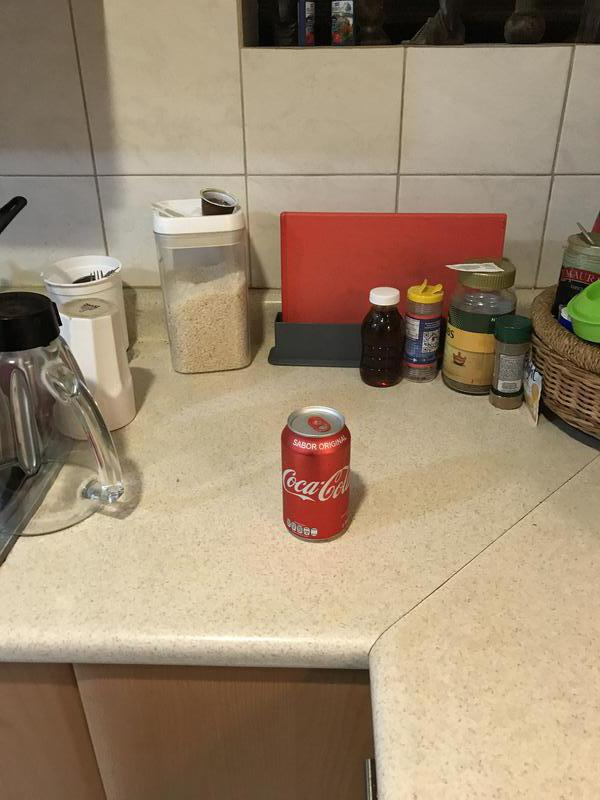coca_cola: (281, 408, 349, 543)
